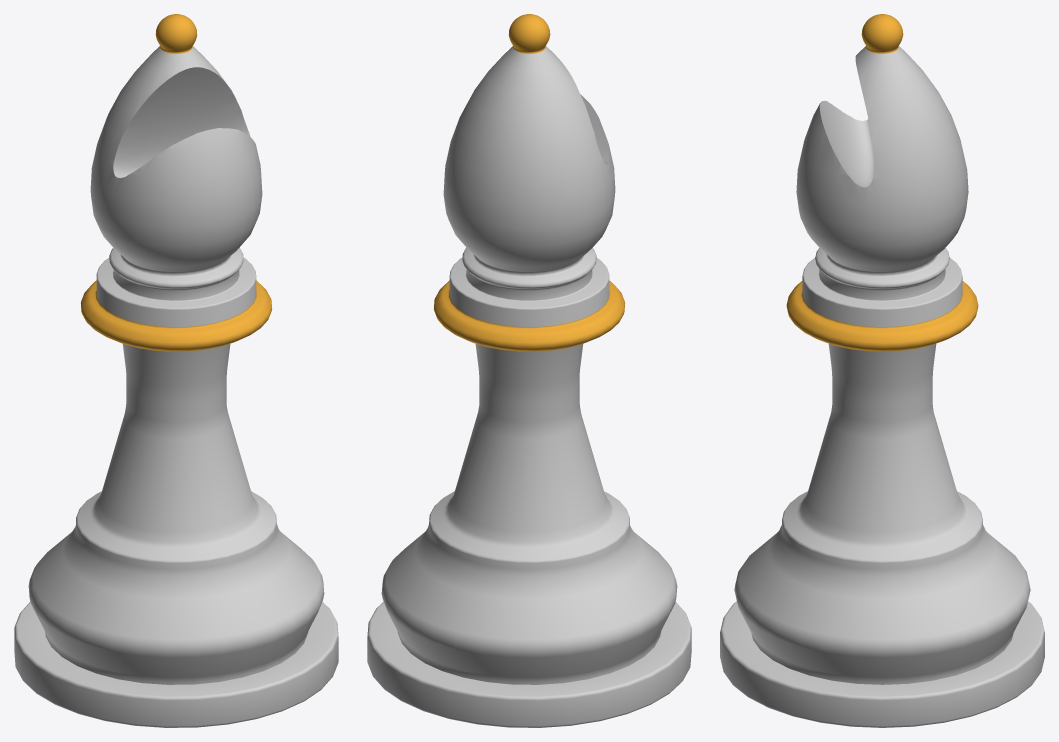
Rendered from gercek6_b_w.glb.
3 views of the same model, side by side, from view 1: azimuth 30°, elevation 25°; view 2: azimuth 150°, elevation 25°; view 3: azimuth 270°, elevation 25° (orthographic).
Visible parts, largest first — view 1: Circle.003; view 2: Circle.003; view 3: Circle.003.
Boxes of the visible parts, x1,y1,x2,y2 form: Circle.003: (14, 14, 338, 727); Circle.003: (367, 14, 691, 727); Circle.003: (720, 14, 1044, 727).
Bounding box in the file's own units: 31.61 × 69.24 × 31.61.
